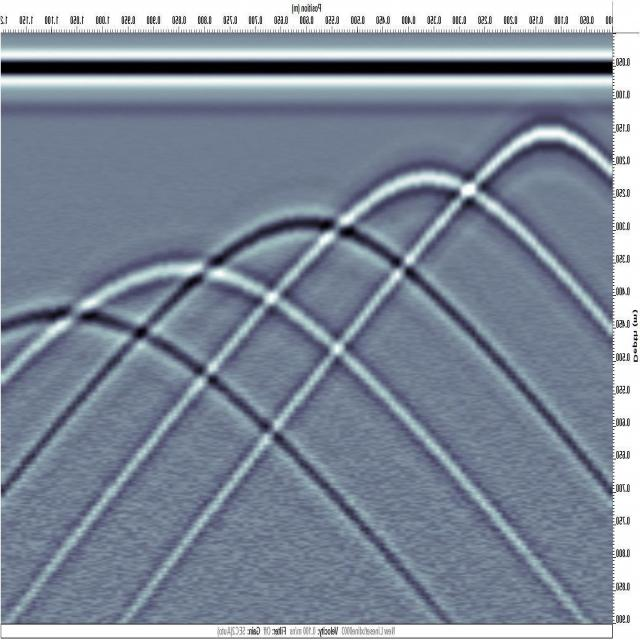hyperbola: (203, 197, 417, 277), (81, 243, 273, 320), (342, 163, 506, 237), (476, 111, 612, 192), (0, 286, 145, 354)
